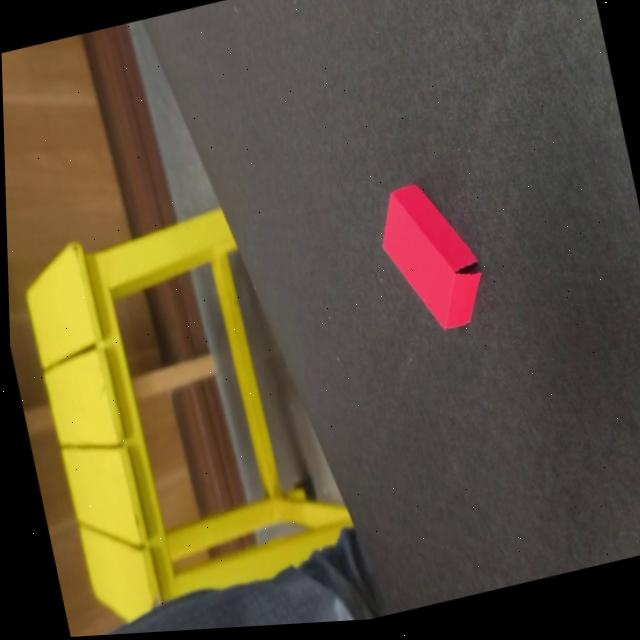red block: (369, 169, 492, 344)
